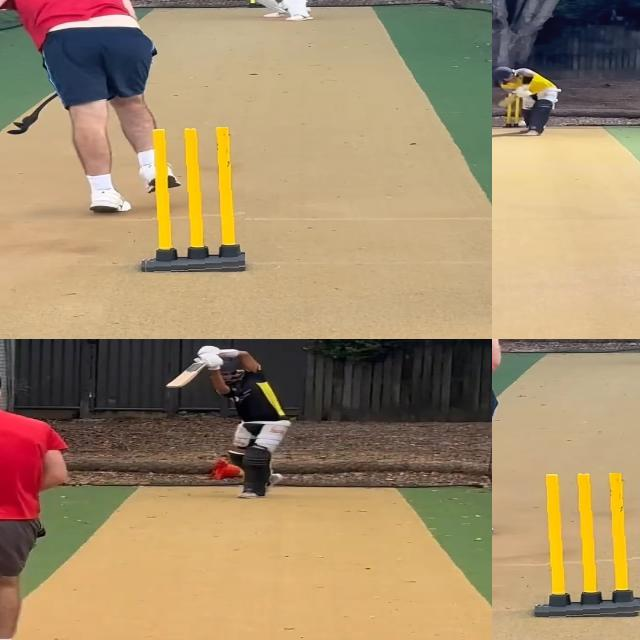Cricket ball: (518, 120, 528, 128)
Stumps: (140, 127, 245, 273), (534, 473, 640, 617)
